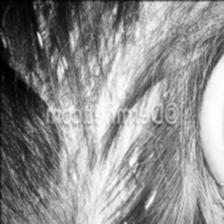Non-Cancerous Skin Condition: (11, 0, 164, 224)
